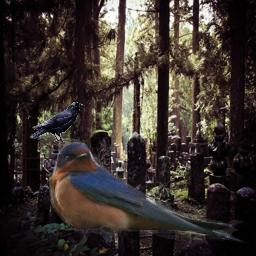Crow: (30, 102, 85, 145)
Swallow: (49, 142, 249, 245)
